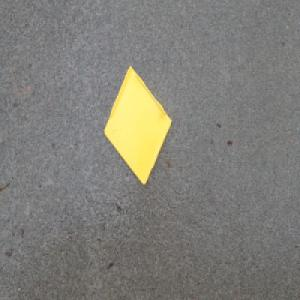PlasticPart: (103, 64, 172, 185)
